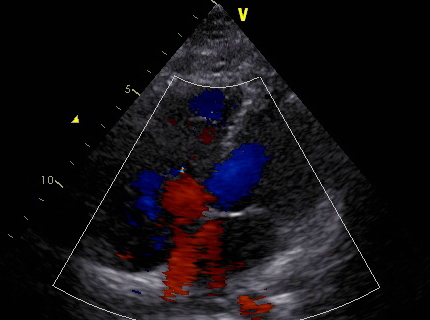TR: (134, 167, 191, 228)
